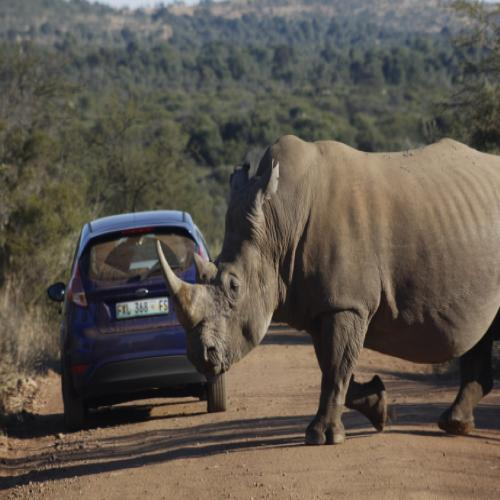rhino-endangered: (155, 121, 500, 449)
